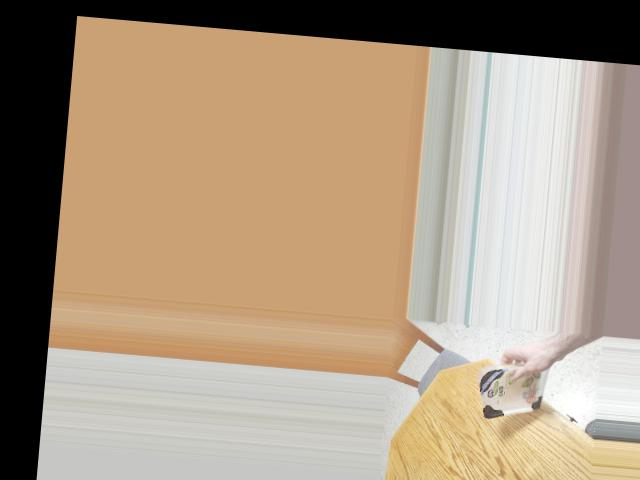cheese: (472, 361, 557, 419)
